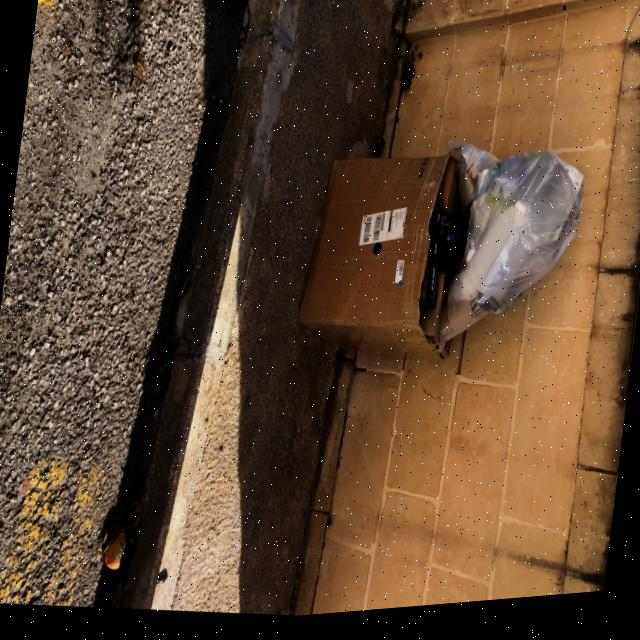Other: (293, 145, 475, 379)
Recycled Waste -Grey or Green Bag-: (422, 138, 591, 381)
